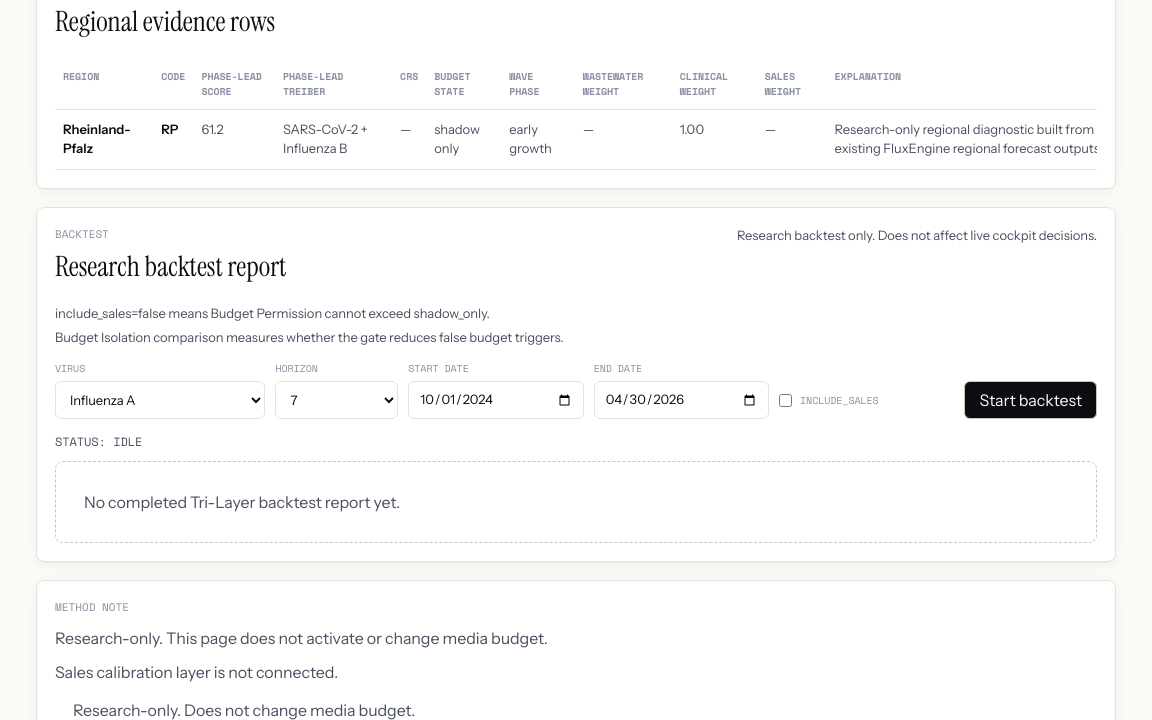
Test: TriLayerPage › starts a backtest and polls running status until success
The image size is (1152, 720).
(page scrolled)
Click the button "Start backtest". click: coordinates (1031, 400)
box: [964, 381, 1097, 419]
(page scrolled)
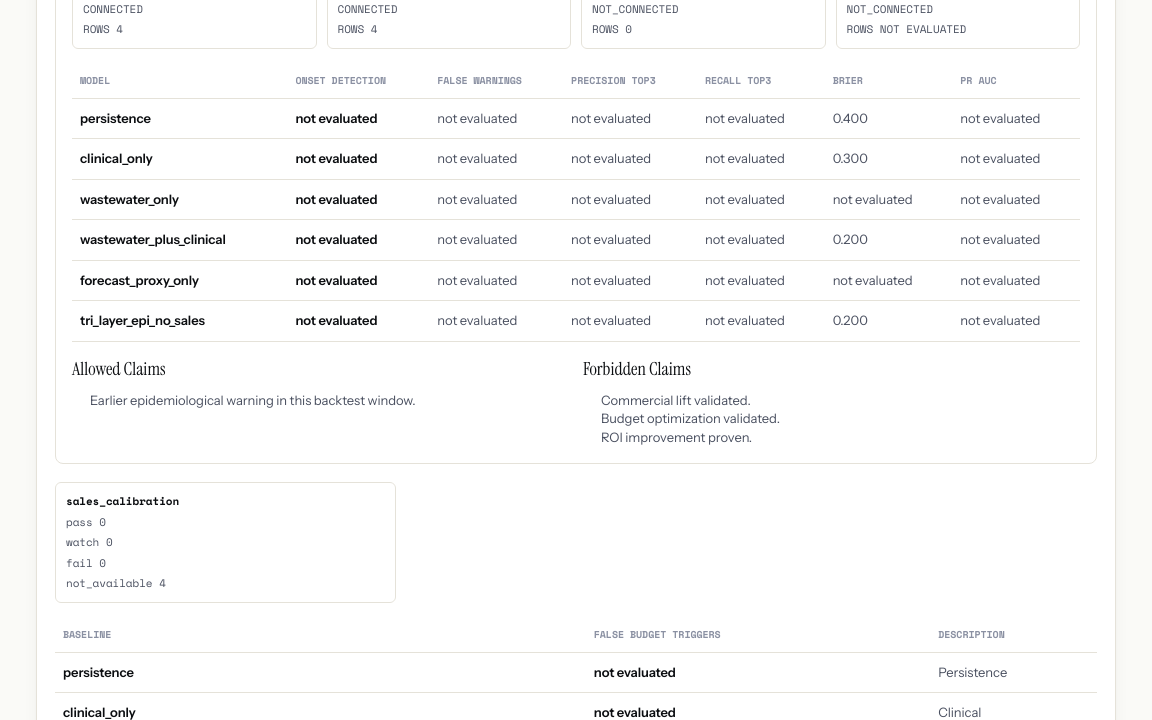
Now the text "wastewater_plus_clinical" is shown, box [72, 220, 287, 260]
Now the list item "Earlier epidemiological warning in this backtest window." is shown, box [90, 392, 416, 408]
Now the list item "Commercial lift validated." is shown, box [601, 392, 751, 408]
